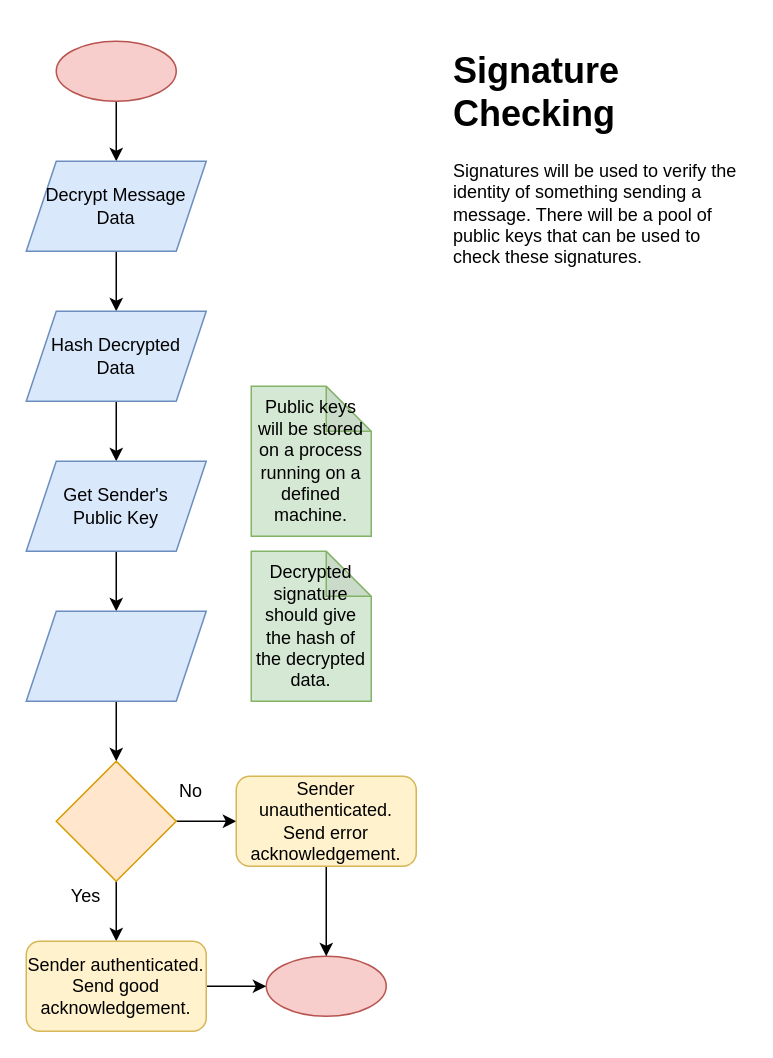
The diagram is 773 pixels wide and 1058 high, and some of its shapes have lost their labels. Here are the shapes that lost their labels. From the top down, the box of each, then its label:
(55, 40, 176, 101): Start
(25, 610, 206, 701): Decrypt Signature
(55, 760, 176, 881): Are both hashes equal?
(265, 955, 386, 1016): End
